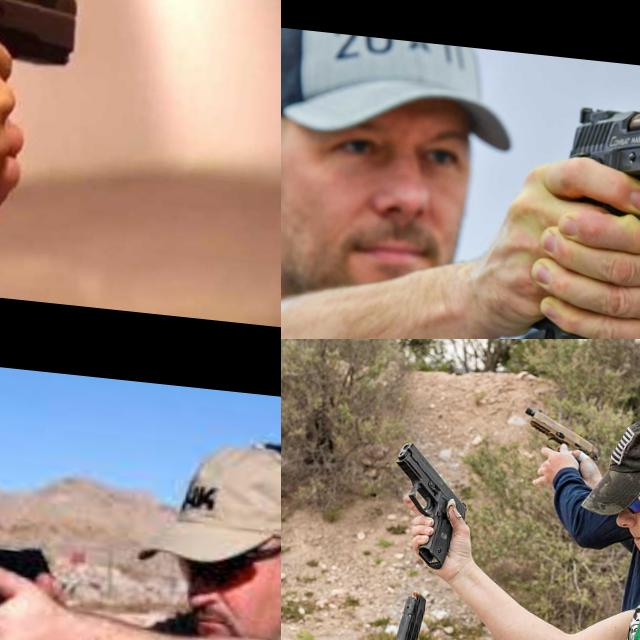handgun: (556, 63, 640, 238), (382, 438, 476, 575), (0, 523, 89, 634), (0, 0, 119, 73), (518, 403, 604, 458)
